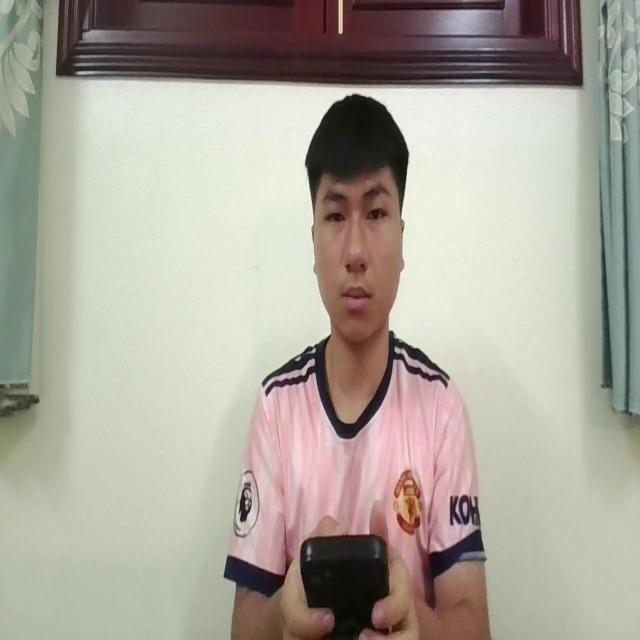phone: (299, 518, 386, 628)
student: (227, 75, 490, 640)
